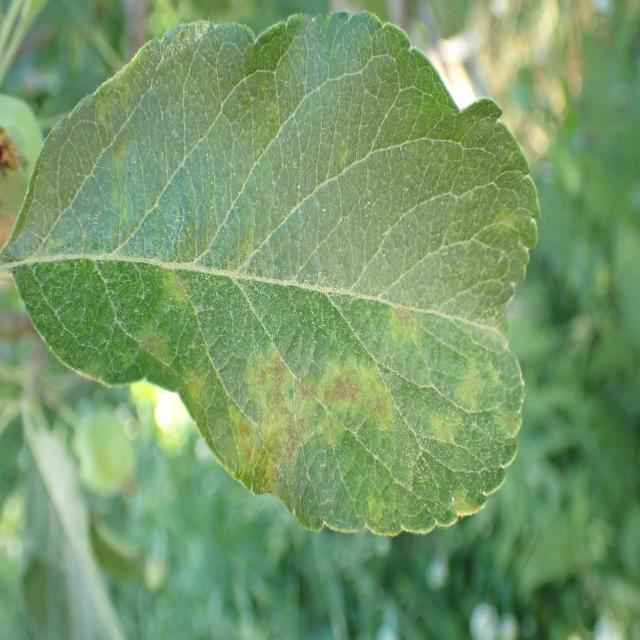scab: (45, 40, 534, 529)
